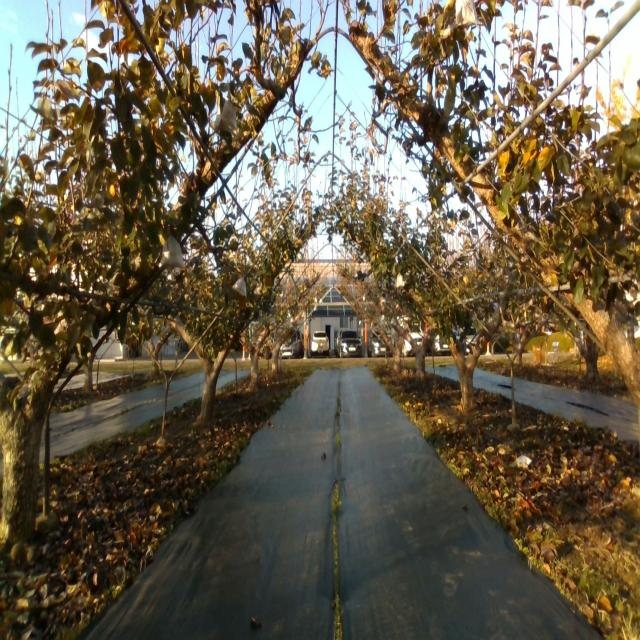pearbags: (213, 98, 242, 142), (160, 234, 185, 268), (455, 0, 483, 26), (232, 279, 247, 298)
